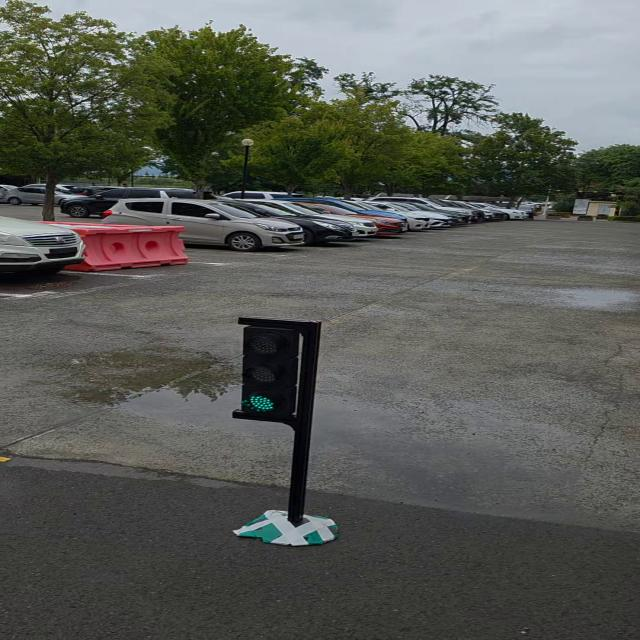green: (239, 319, 305, 423)
